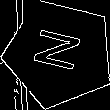N_E: (29, 28, 90, 79)
